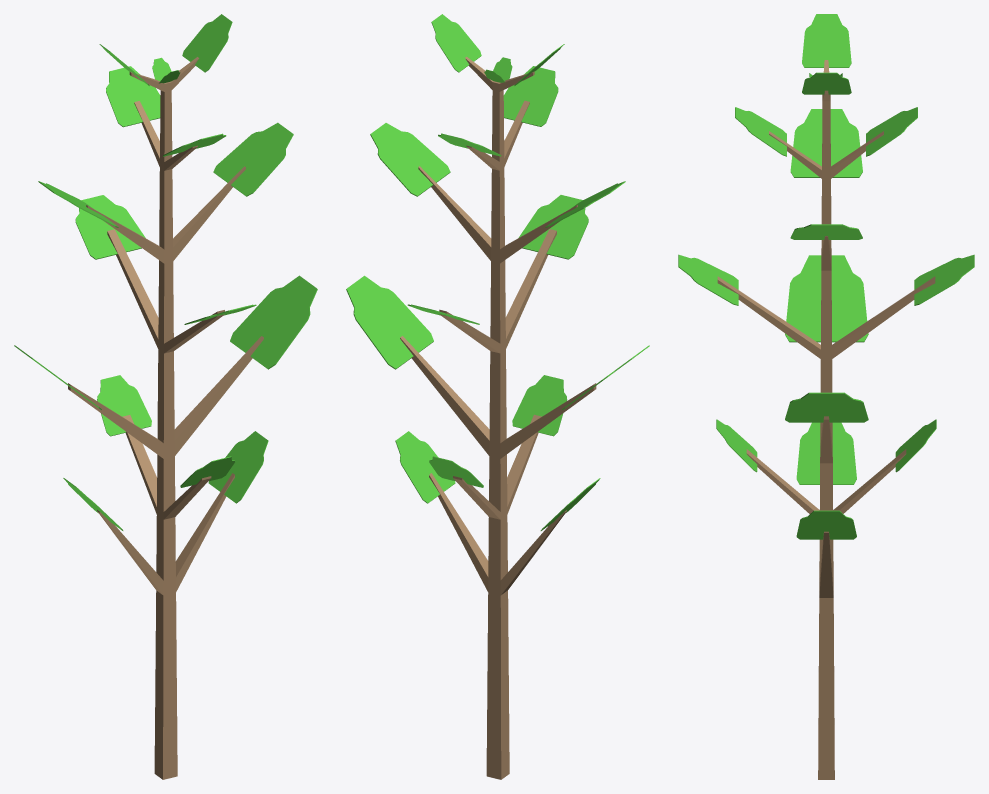
The model's file is Foliage_Sapling1.fbx.
3 renders of one model, left to right at view 1: azimuth 30°, elevation 25°; view 2: azimuth 150°, elevation 25°; view 3: azimuth 270°, elevation 25°, orthographic.
Parts seen in each view (by area): view 1: Cube.001; view 2: Cube.001; view 3: Cube.001.
Part boxes in pixels (x1,y1,x2,y2): Cube.001: (14,14,317,779); Cube.001: (346,14,649,779); Cube.001: (678,14,974,779).
Bounding box in the file's own units: 80.34 × 199 × 73.1.
